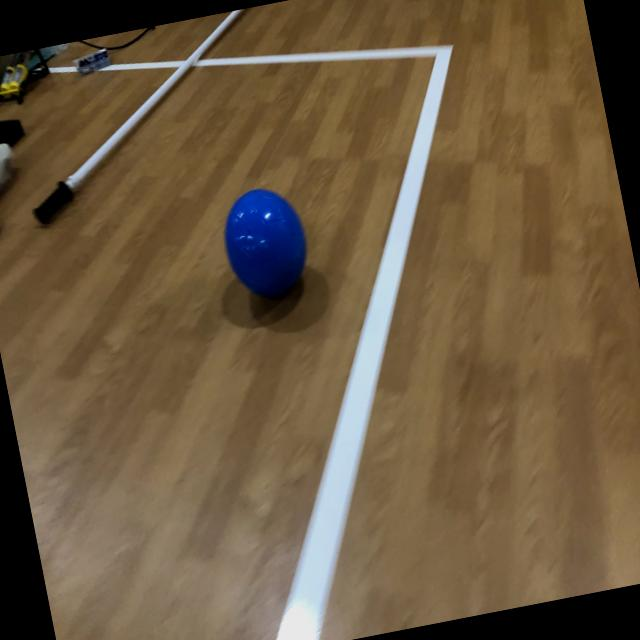blue_ball: (213, 178, 317, 312)
